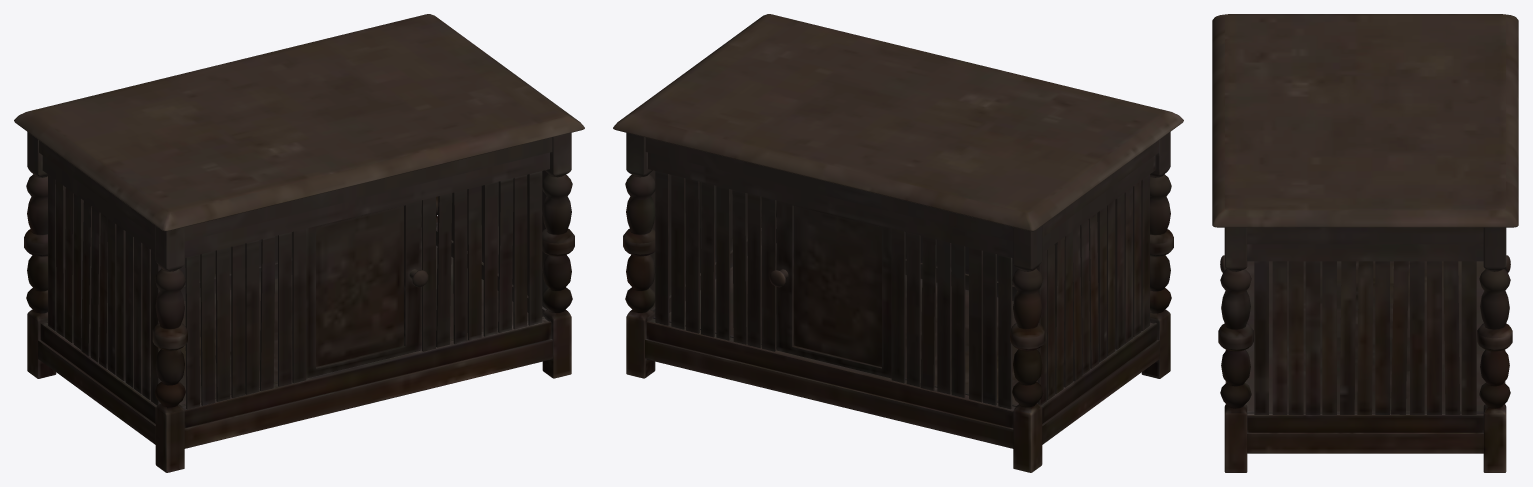
File: gallinera_table.glb
The picture shows the model from 3 angles, left to right: view 1: azimuth 30°, elevation 25°; view 2: azimuth 150°, elevation 25°; view 3: azimuth 270°, elevation 25°; orthographic projection.
Parts seen in each view (by area): view 1: gallinera_table; view 2: gallinera_table; view 3: gallinera_table.
Boxes of the visible parts, x1,y1,x2,y2 form: gallinera_table: [14, 14, 584, 472]; gallinera_table: [613, 14, 1183, 472]; gallinera_table: [1212, 14, 1518, 472].
Bounding box in the file's own units: 0.8301 × 0.4878 × 0.5183.
1 material, 1 textured.
